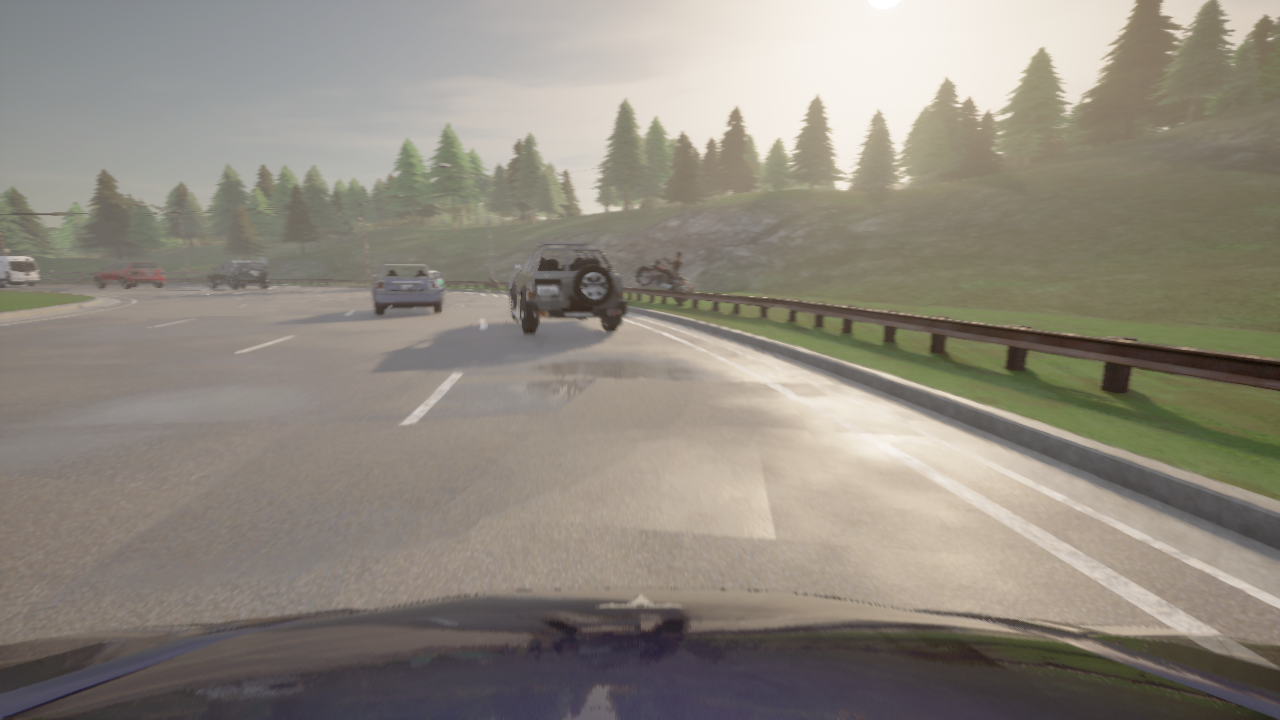cyclist: (0, 588, 1279, 719), (508, 242, 625, 335), (371, 264, 442, 315), (635, 258, 693, 302), (92, 261, 165, 289), (206, 261, 269, 289), (429, 270, 444, 294)
